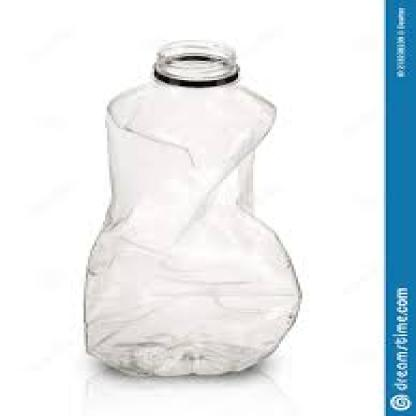Glass Bottle: (61, 31, 323, 386)
